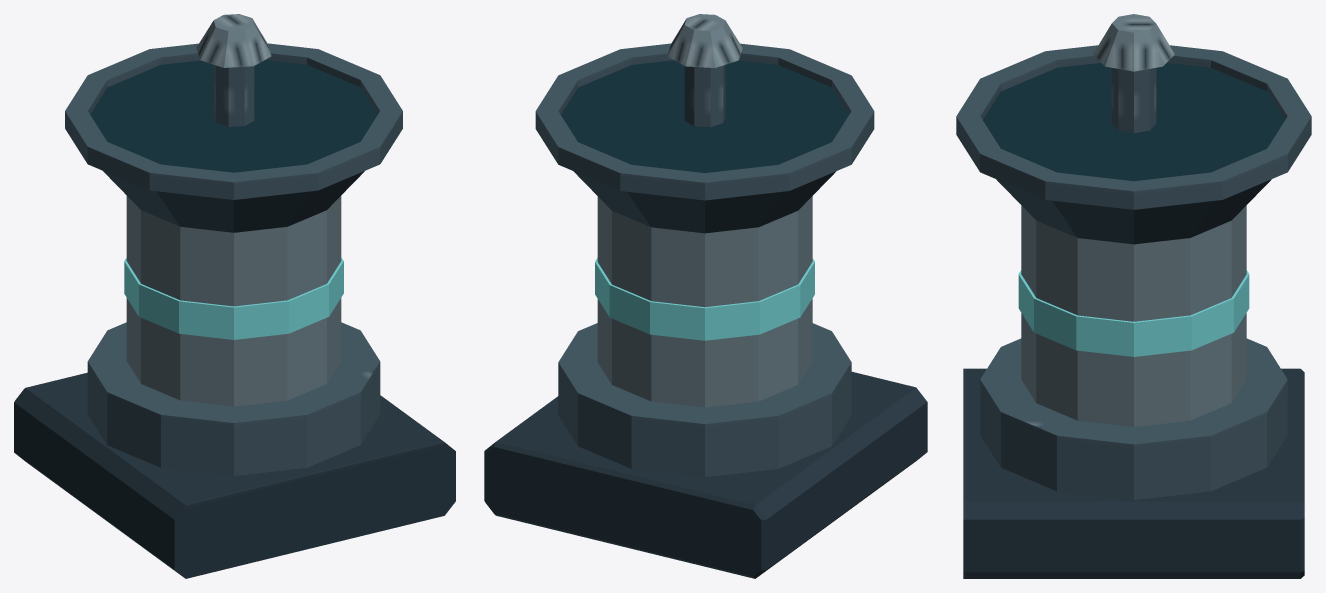
The model's file is beacon_emitter.obj.
3 views of the same model, side by side, from view 1: azimuth 30°, elevation 25°; view 2: azimuth 150°, elevation 25°; view 3: azimuth 270°, elevation 25° (orthographic). The views are drawn at different scales.
Parts seen in each view (by area): view 1: mast_coupler, transmitter_drum, lower_insulator, dish_reflector, dish_rim, signal_band, antenna_dish_base, feed_cap, feed_stalk; view 2: mast_coupler, transmitter_drum, lower_insulator, dish_reflector, dish_rim, signal_band, antenna_dish_base, feed_cap, feed_stalk; view 3: mast_coupler, transmitter_drum, lower_insulator, dish_reflector, dish_rim, signal_band, antenna_dish_base, feed_cap, feed_stalk.
Part boxes in pixels (x1=…): mast_coupler: x1=14, y1=372, x2=455, y2=578; transmitter_drum: x1=126, y1=196, x2=341, y2=406; lower_insulator: x1=87, y1=322, x2=380, y2=475; dish_reflector: x1=90, y1=60, x2=377, y2=172; dish_rim: x1=65, y1=43, x2=402, y2=199; signal_band: x1=124, y1=257, x2=343, y2=339; antenna_dish_base: x1=103, y1=171, x2=364, y2=232; feed_cap: x1=196, y1=14, x2=271, y2=67; feed_stalk: x1=213, y1=65, x2=254, y2=126; mast_coupler: x1=484, y1=371, x2=927, y2=578; transmitter_drum: x1=597, y1=196, x2=812, y2=407; lower_insulator: x1=558, y1=323, x2=851, y2=477; dish_reflector: x1=561, y1=60, x2=848, y2=172; dish_rim: x1=535, y1=43, x2=874, y2=200; signal_band: x1=595, y1=258, x2=814, y2=340; antenna_dish_base: x1=573, y1=171, x2=835, y2=233; feed_cap: x1=667, y1=14, x2=742, y2=67; feed_stalk: x1=684, y1=65, x2=725, y2=127; mast_coupler: x1=963, y1=368, x2=1304, y2=578; transmitter_drum: x1=1021, y1=205, x2=1246, y2=426; lower_insulator: x1=980, y1=338, x2=1287, y2=499; dish_reflector: x1=983, y1=63, x2=1284, y2=181; dish_rim: x1=956, y1=45, x2=1311, y2=209; signal_band: x1=1018, y1=270, x2=1249, y2=356; antenna_dish_base: x1=996, y1=179, x2=1271, y2=244; feed_cap: x1=1093, y1=14, x2=1174, y2=71; feed_stalk: x1=1111, y1=68, x2=1156, y2=133.
Size of the model in its own units: 0.65 by 0.9875 by 0.65.
